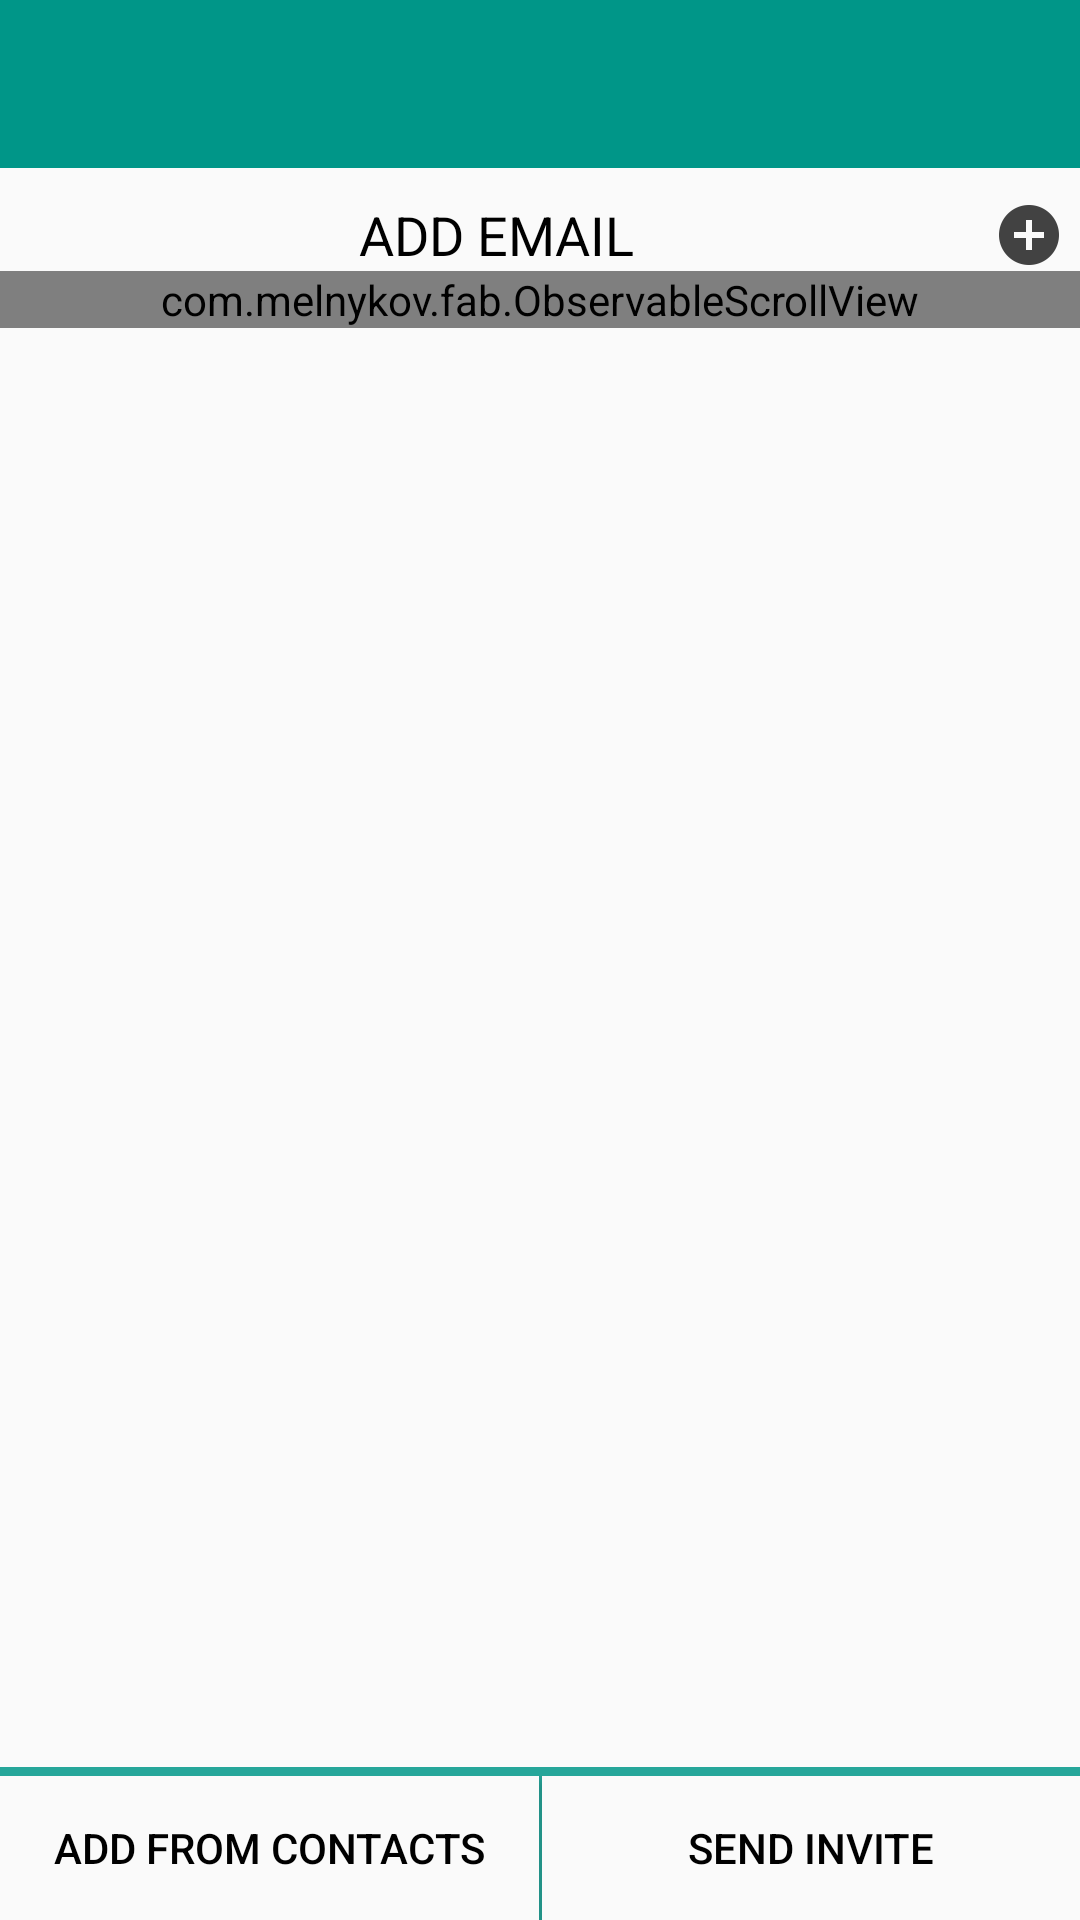

Screen size 1080 x 1920. Icon name, then its box in pixels as (x1, y1, x2, y2):
add Secondary emails: (999, 205, 1059, 265)
